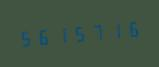five: (71, 20, 88, 46), (17, 25, 34, 50)
one: (107, 17, 124, 43), (53, 22, 70, 47)
seven: (89, 19, 106, 44)
six: (35, 23, 52, 49), (125, 16, 142, 41)
